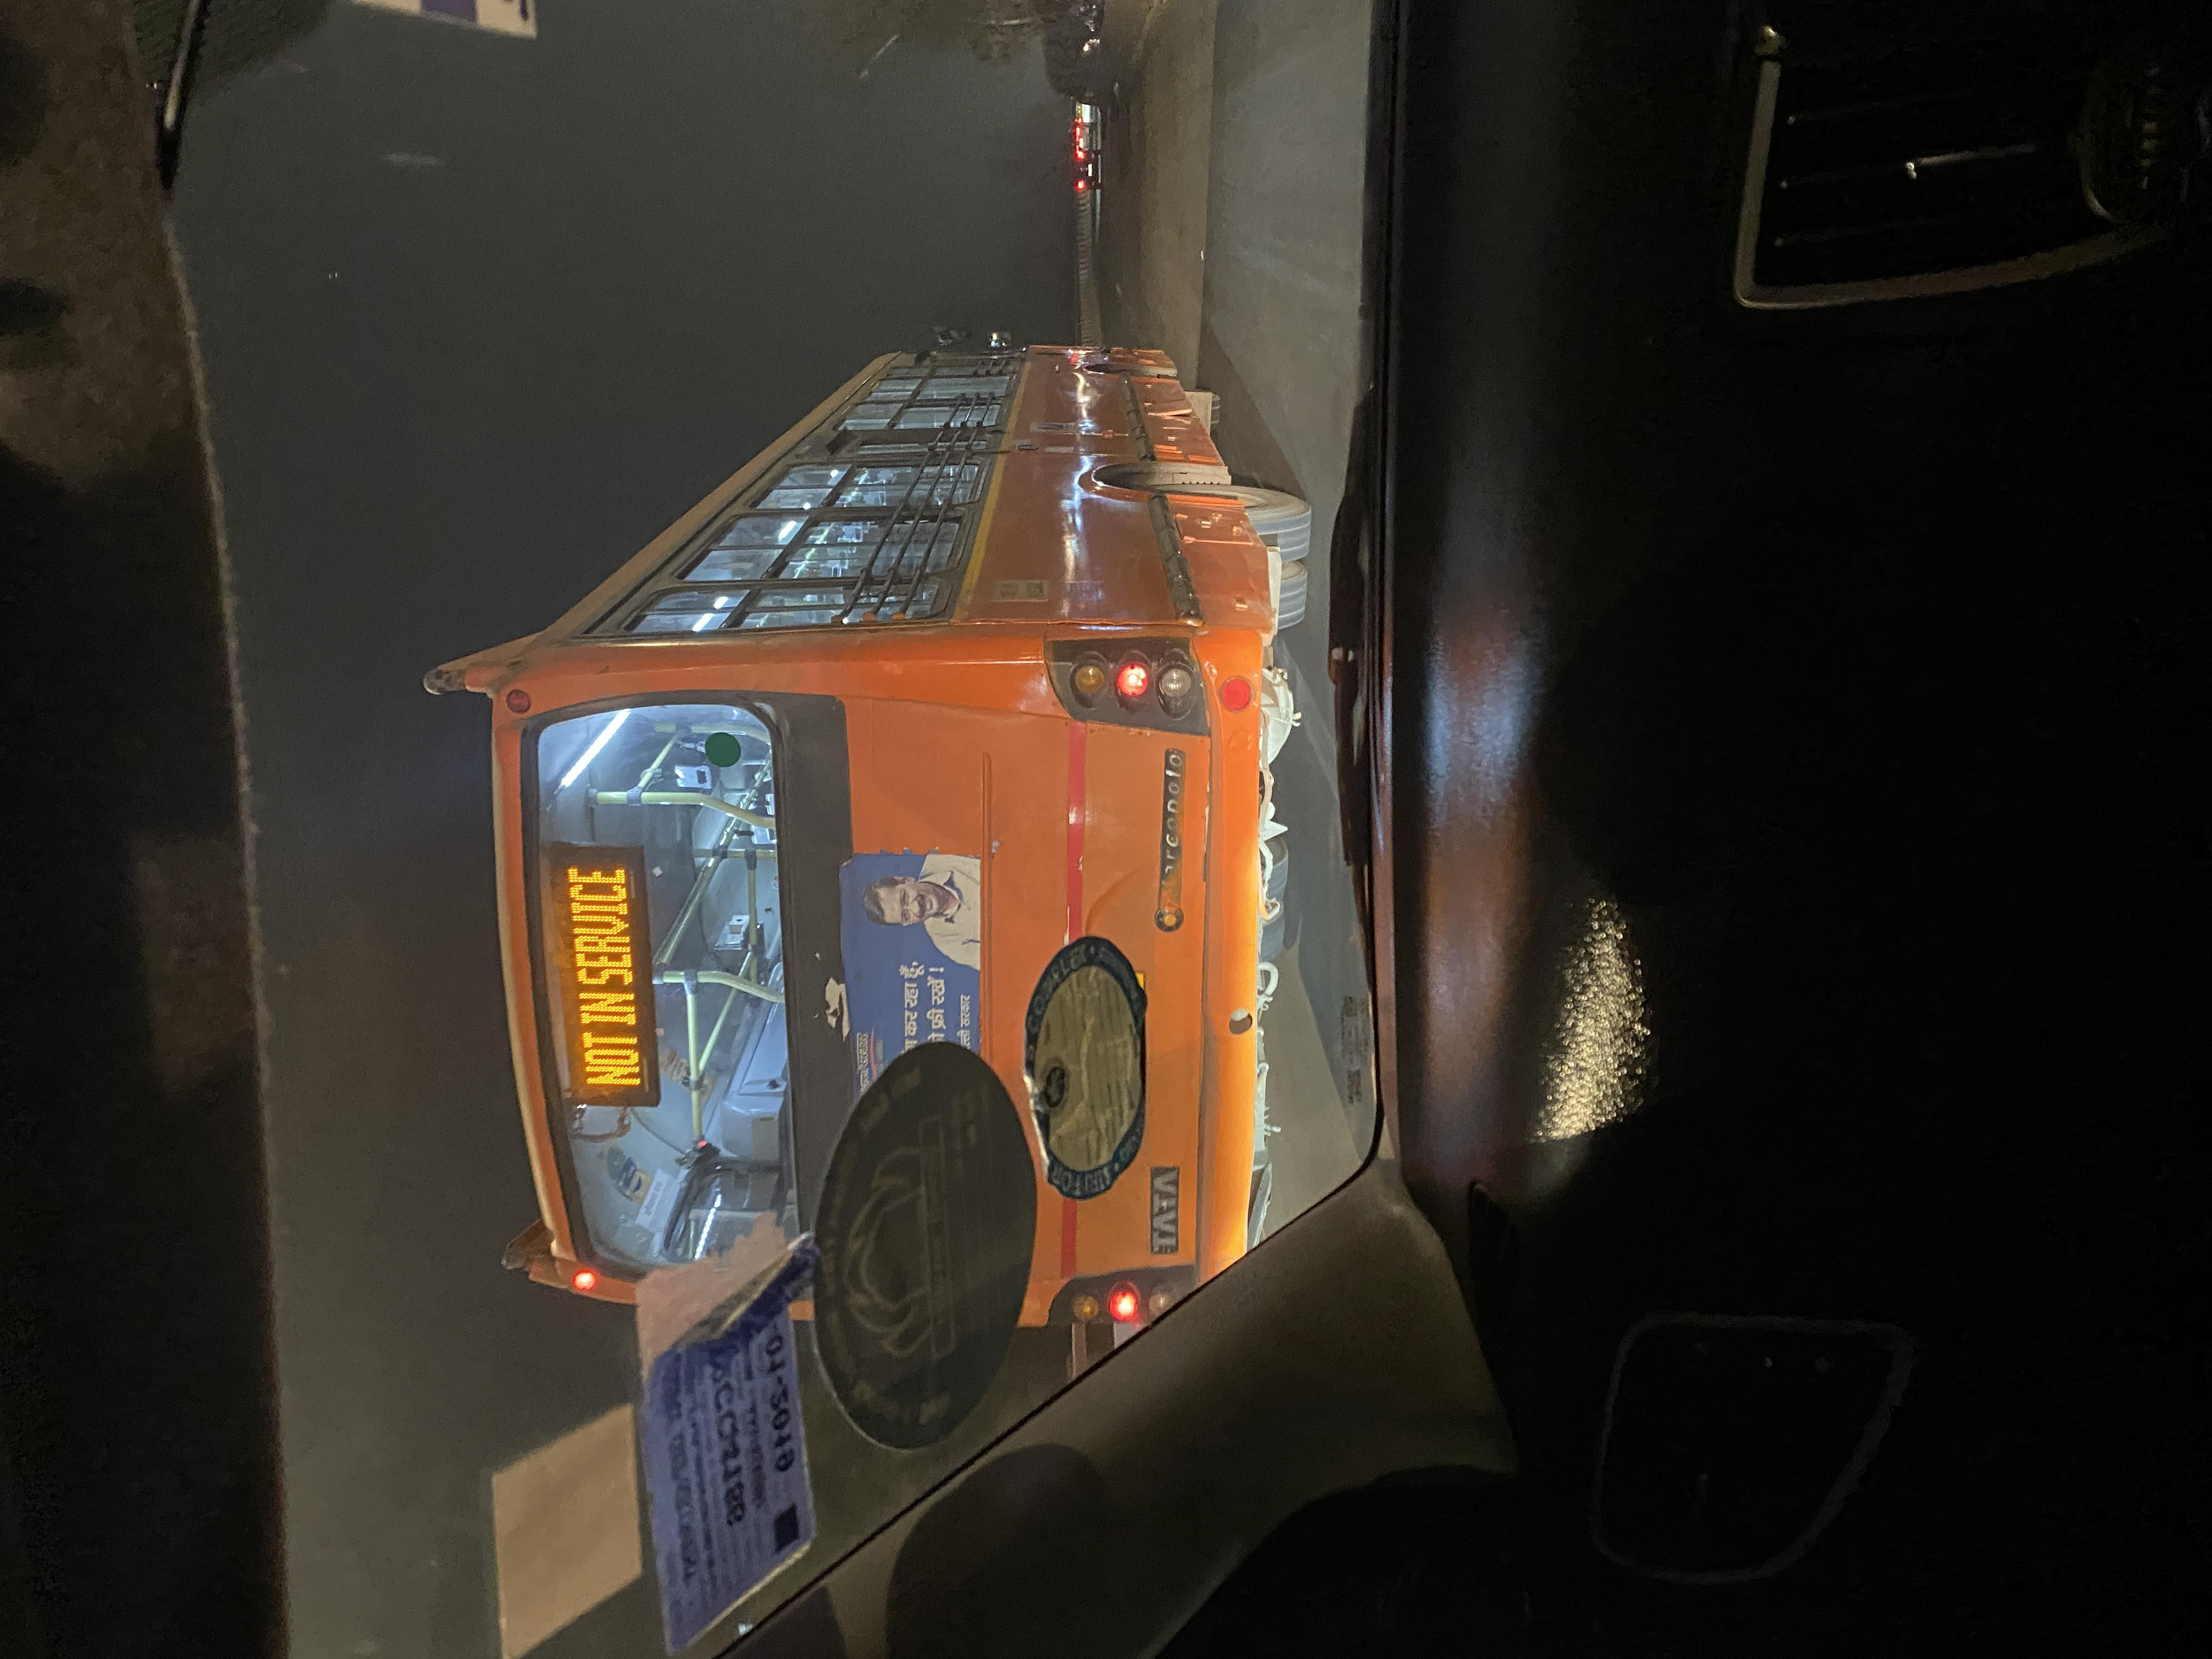Bus: (423, 620, 1322, 1361)
Display Board: (538, 817, 674, 1108)
